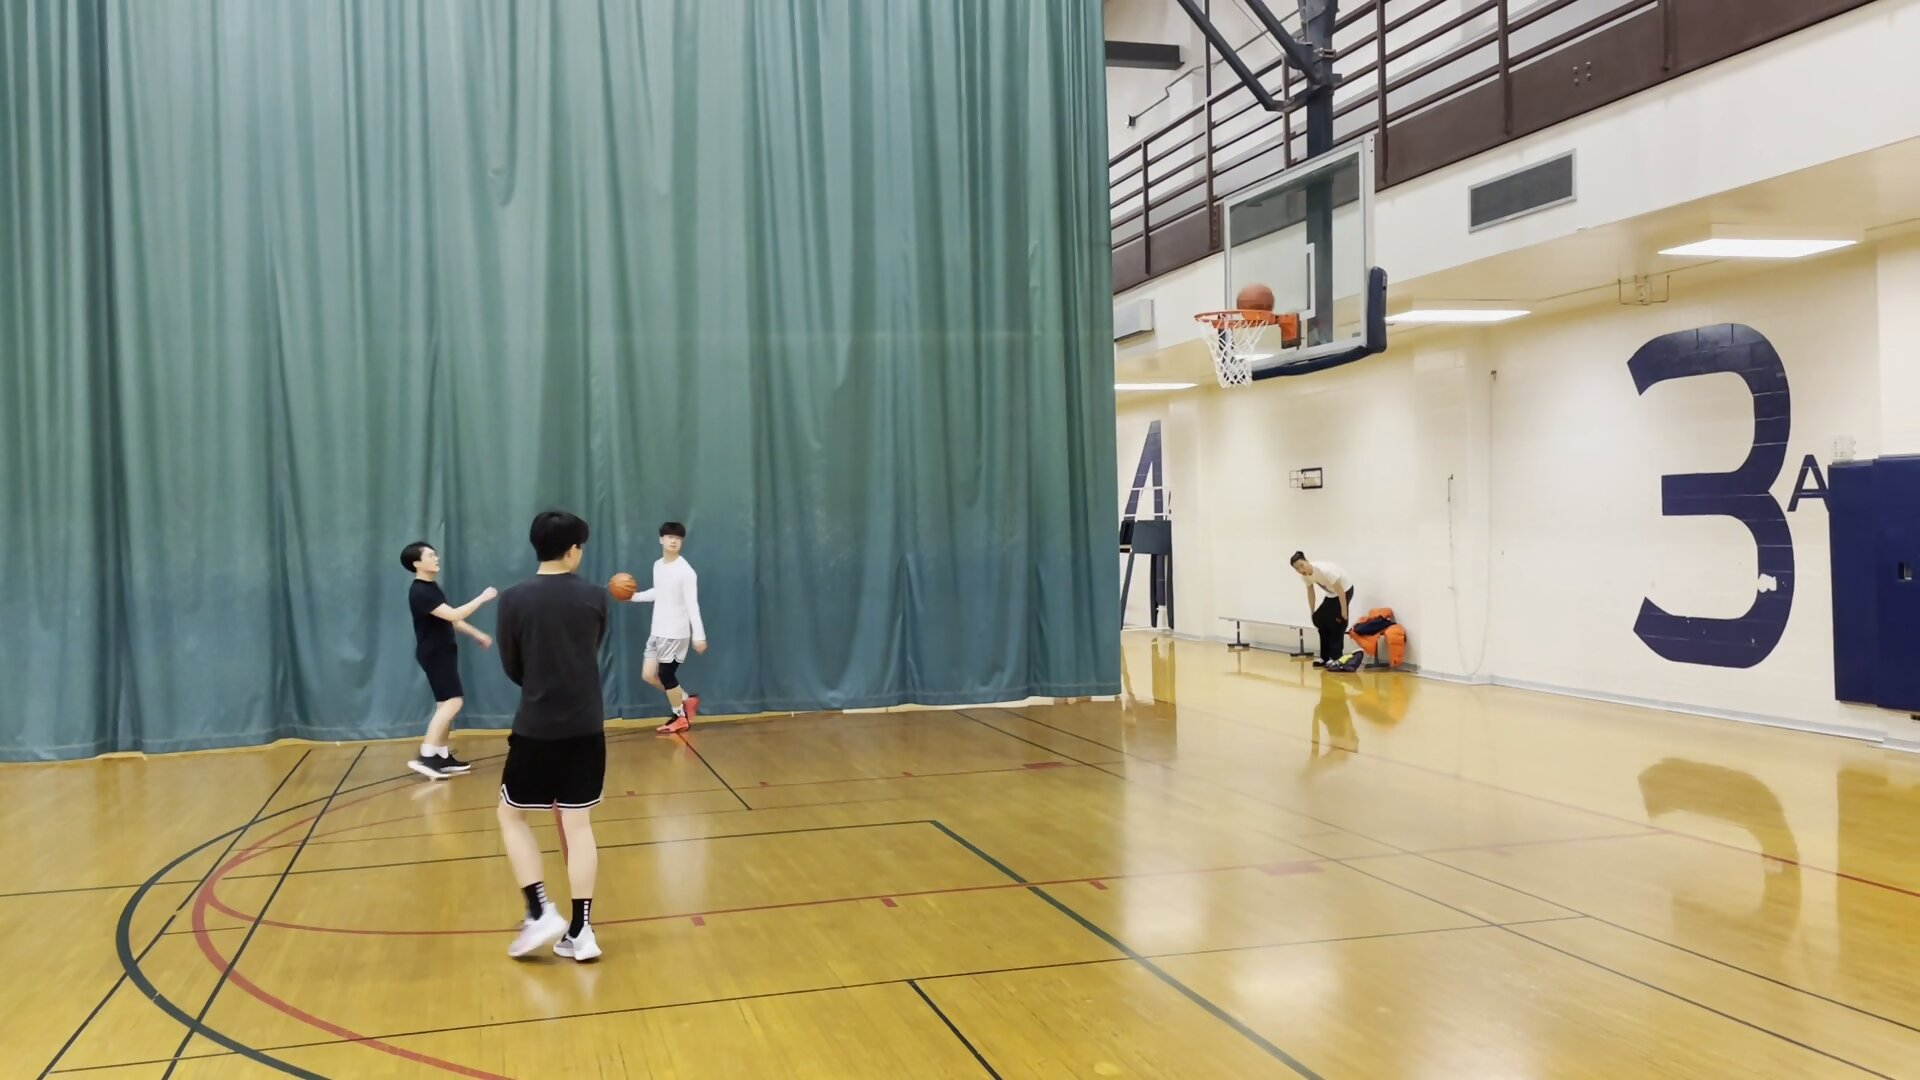ball: (1231, 278, 1279, 321), (605, 570, 640, 603)
net: (1205, 355, 1267, 392)
player: (492, 506, 634, 967), (395, 539, 491, 788), (635, 519, 711, 740), (1287, 549, 1354, 677)
rim: (1187, 307, 1283, 335)
